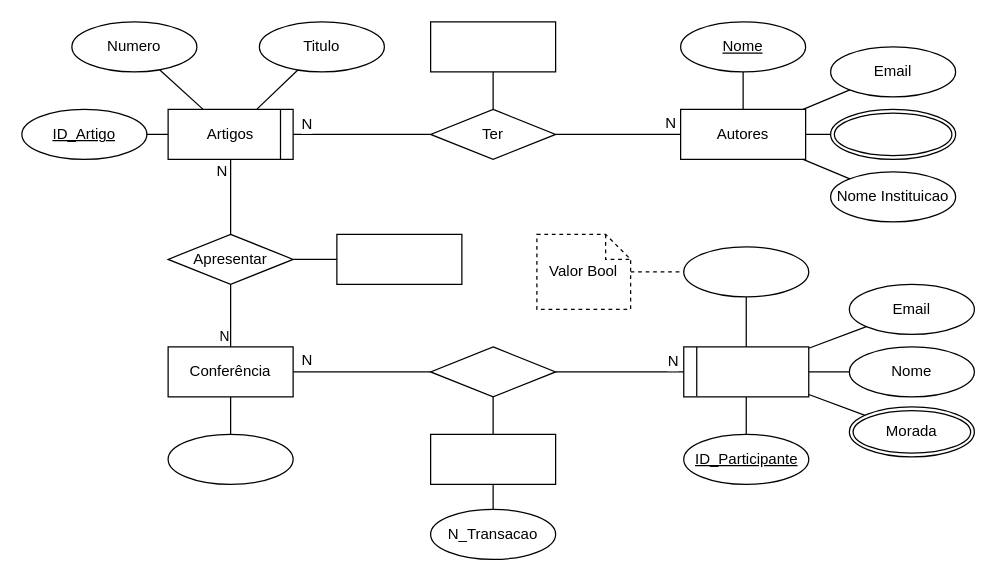
Image size: 996x581. Some labels were removed from this diagram. The centre of each missing label's shape, as x and y in pixels:
"Apresentações" belongs at [399,258].
"Estudante" belongs at [745,271].
"ID_Conf" belongs at [230,458].
"Inscrever" belongs at [492,371].
"Inscrições" belongs at [492,458].
"Morada Instituicao" belongs at [892,133].
"Participantes" belongs at [745,371].
"Referências" belongs at [492,46].
